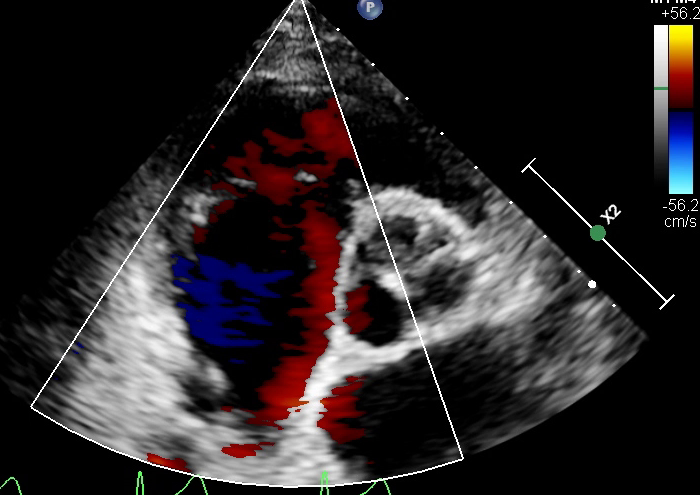TR: (206, 172, 352, 290)
